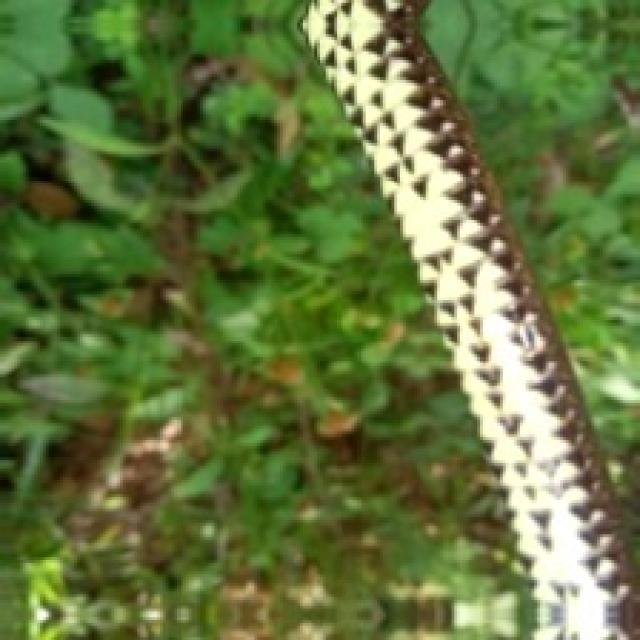reinhardts lined snake: (303, 0, 631, 637)
